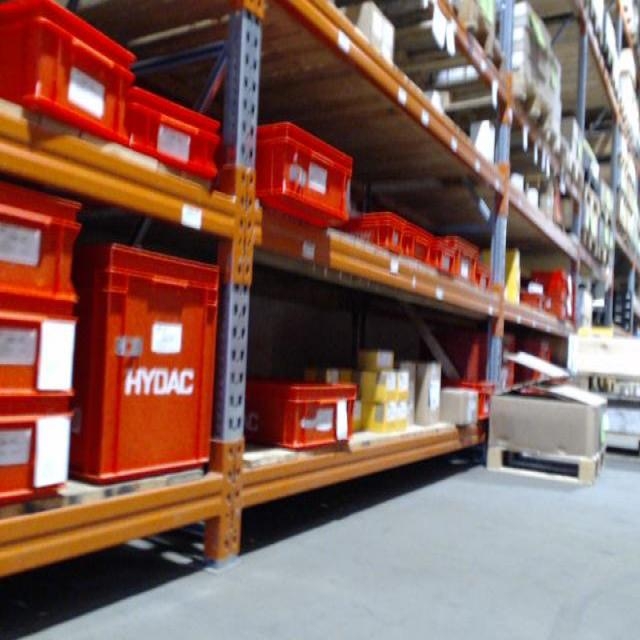pallet: (346, 2, 510, 88), (403, 73, 564, 152), (534, 130, 586, 194), (540, 210, 594, 260), (570, 178, 602, 216), (580, 248, 608, 270), (604, 202, 615, 231)
small_load_carrier: (70, 232, 231, 492), (0, 3, 141, 146), (218, 113, 358, 231), (2, 174, 93, 296), (126, 82, 220, 186), (1, 293, 76, 404), (2, 399, 76, 507), (250, 381, 358, 453), (348, 200, 405, 254), (512, 335, 555, 396), (478, 336, 518, 397), (438, 230, 477, 285), (403, 221, 441, 275), (457, 373, 497, 423), (536, 269, 576, 300), (541, 298, 573, 334), (429, 237, 453, 271), (520, 285, 548, 312), (474, 260, 491, 290)
